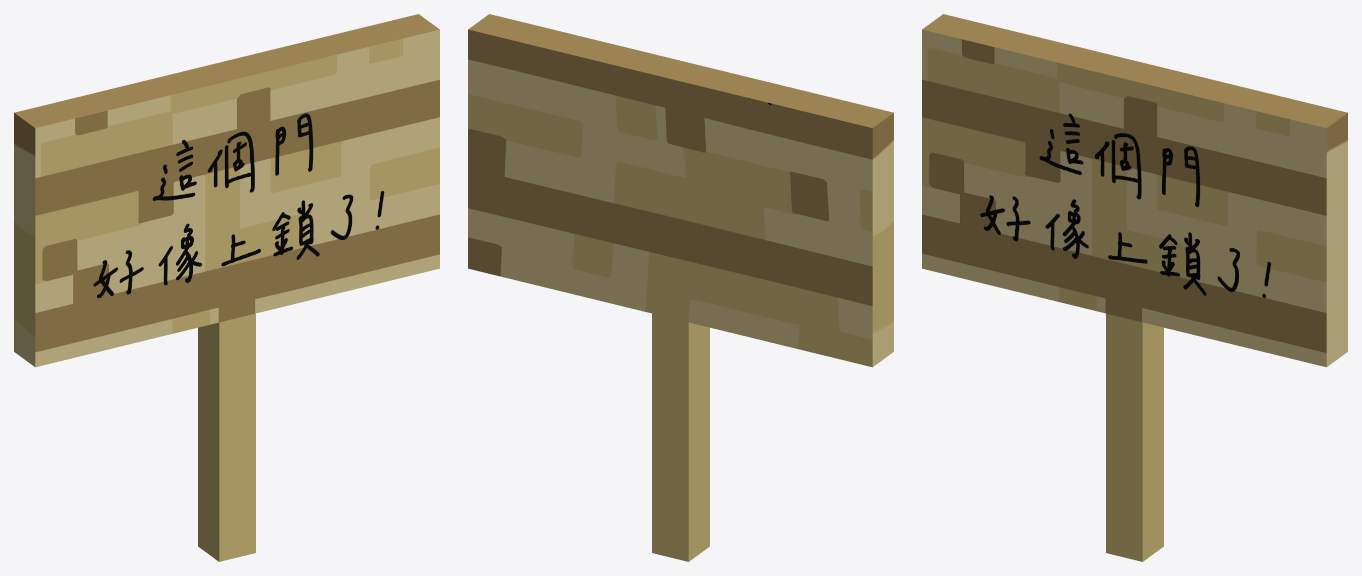
Rendered from Noter2.fbx.
The picture shows the model from 3 angles, left to right: view 1: azimuth 30°, elevation 25°; view 2: azimuth 150°, elevation 25°; view 3: azimuth 330°, elevation 25°; orthographic projection.
Parts seen in each view (by area): view 1: Noter; view 2: Noter; view 3: Noter.
Boxes of the visible parts, <box> form: Noter: <box>14,14,439,561</box>; Noter: <box>468,14,893,561</box>; Noter: <box>922,14,1347,561</box>.
Bounding box in the file's own units: 110 × 125 × 10.
Materials: 1 (1 with a texture image).
